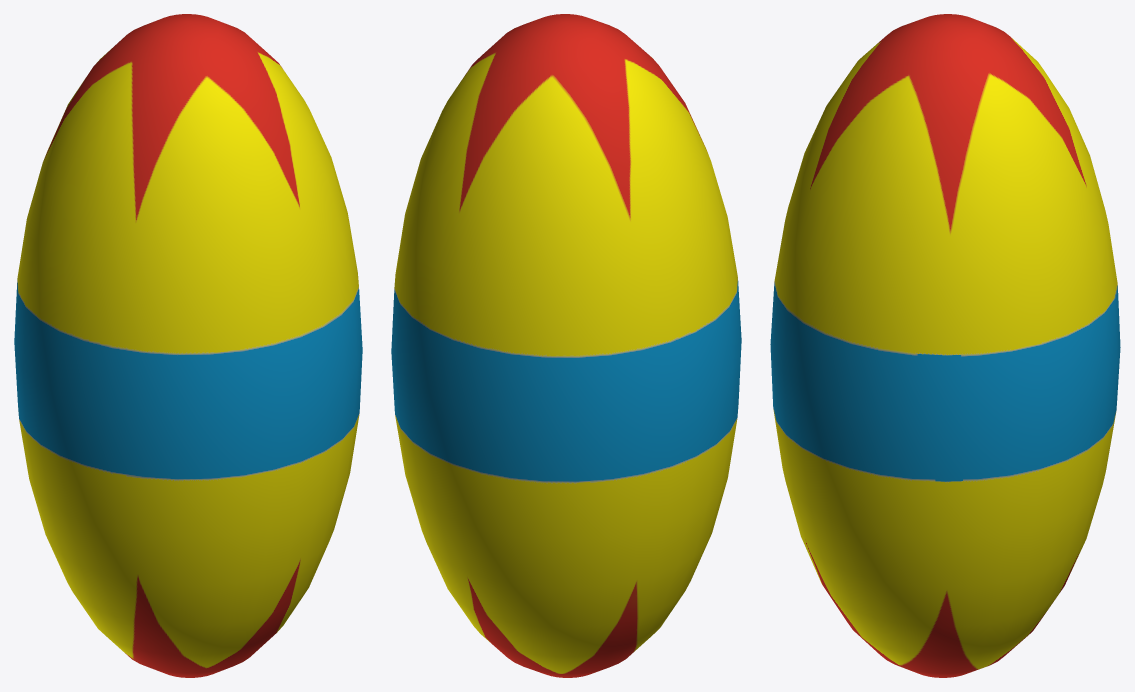
Rendered from denme.glb.
3 views of the same model, side by side, from view 1: azimuth 30°, elevation 25°; view 2: azimuth 150°, elevation 25°; view 3: azimuth 270°, elevation 25° (orthographic).
Visible parts, largest first — view 1: Sphere; view 2: Sphere; view 3: Sphere.
Part boxes in pixels (<box>): Sphere: <box>14,14,362,677</box>; Sphere: <box>391,14,741,677</box>; Sphere: <box>770,14,1120,677</box>.
Bounding box in the file's own units: 1.33 × 2.72 × 1.33.
1 material, 1 textured.
